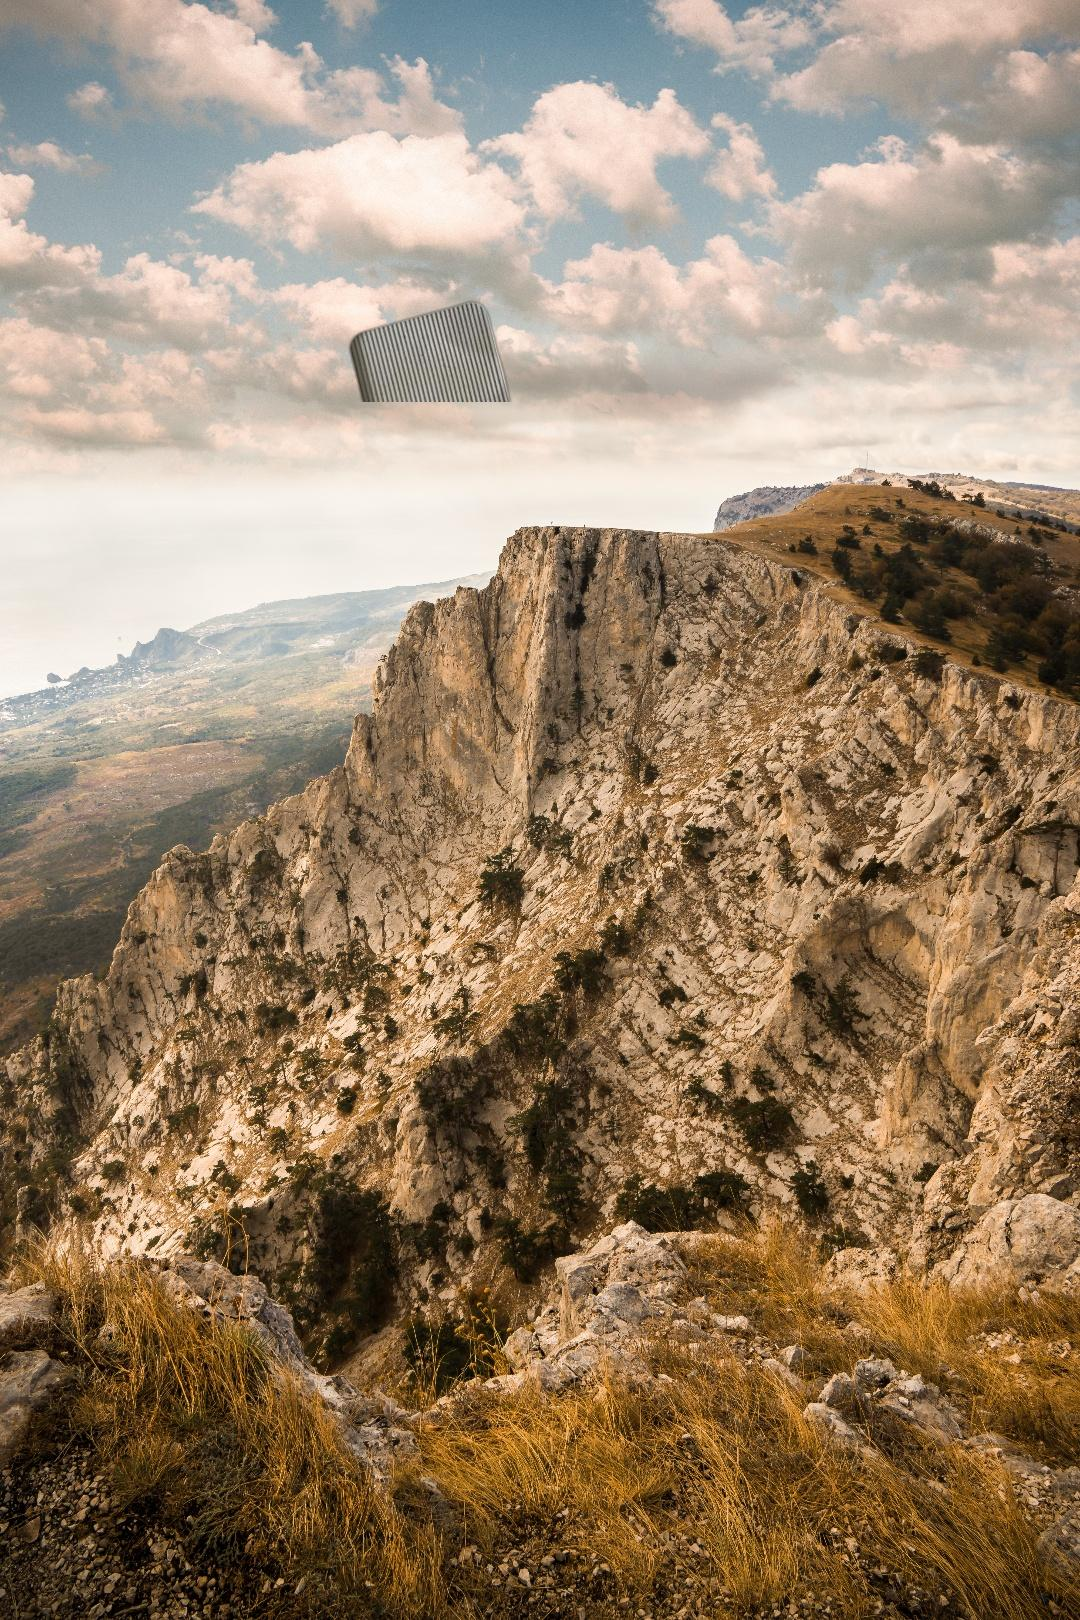paper: (266, 18, 568, 403)
